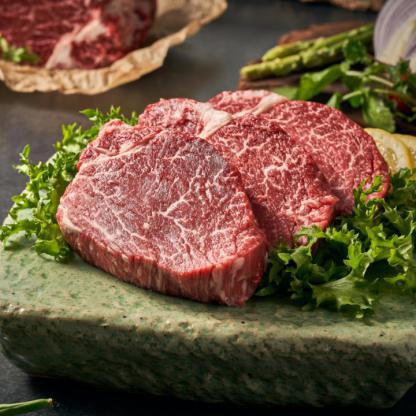beef: (100, 85, 364, 293)
